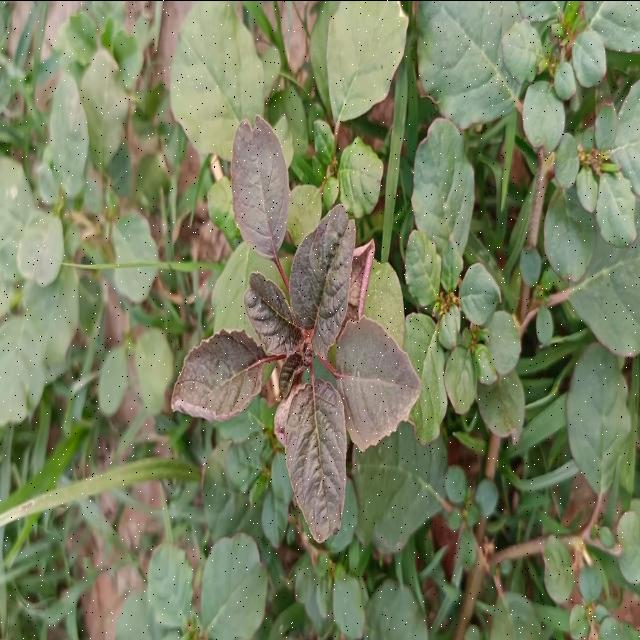plant: (172, 205, 421, 542), (232, 118, 289, 256)
